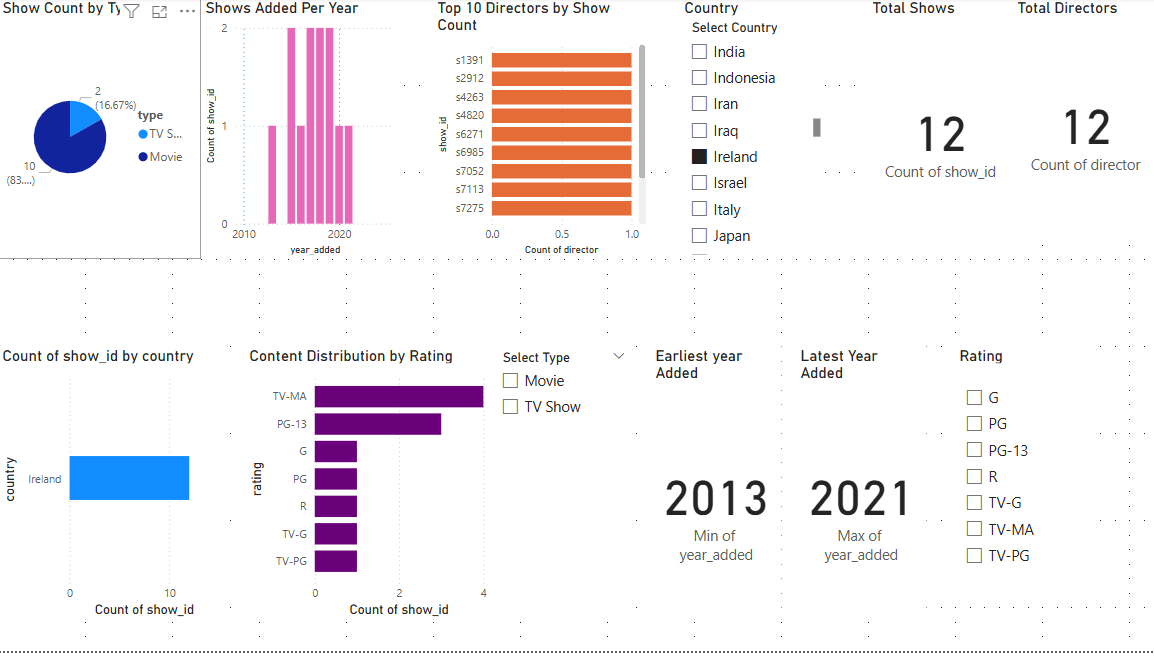

The dashboard page shown, as its layout file describes it:
{"tool":"powerbi","page":{"name":"Page 1","canvas":[1280,720],"ordinal":0},"visuals":[{"type":"pieChart","fields":{"Category":["netflix_titles.type"],"Y":["CountNonNull(netflix_titles.show_id)"]},"box":[0,0,224,288],"z":0},{"type":"clusteredColumnChart","fields":{"Category":["netflix_titles.year_added"],"Y":["CountNonNull(netflix_titles.show_id)"]},"box":[272,0,272,288],"z":1000},{"type":"barChart","fields":{"Category":["netflix_titles.country"],"Y":["CountNonNull(netflix_titles.show_id)"]},"box":[0,384,384,272],"z":2000},{"type":"barChart","fields":{"Category":["netflix_titles.show_id"],"Y":["CountNonNull(netflix_titles.director)"]},"box":[560,0,272,288],"z":3000},{"type":"clusteredBarChart","fields":{"Category":["netflix_titles.rating"],"Y":["CountNonNull(netflix_titles.show_id)"]},"box":[560,384,272,272],"z":4000}]}

Visuals, with their boxes in screenshot pixels (x1, y1, x2, y2), scaled from the page's 1280x720 canvas onto the 1154x658 screenshot:
pieChart - netflix_titles.type x CountNonNull(netflix_titles.show_id): rect(0, 0, 202, 263)
clusteredColumnChart - netflix_titles.year_added x CountNonNull(netflix_titles.show_id): rect(245, 0, 490, 263)
barChart - netflix_titles.country x CountNonNull(netflix_titles.show_id): rect(0, 351, 346, 600)
barChart - netflix_titles.show_id x CountNonNull(netflix_titles.director): rect(505, 0, 750, 263)
clusteredBarChart - netflix_titles.rating x CountNonNull(netflix_titles.show_id): rect(505, 351, 750, 600)
